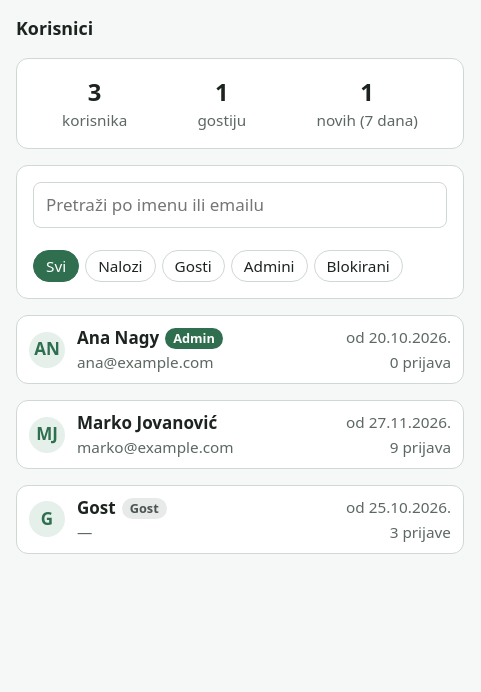
Scenario: Users › deletes a user only after confirming
The width and height of the screenshot is (481, 692).
Click the text "Marko Jovanović" at (147, 424), box top-left (77, 411), bottom-right (217, 436)
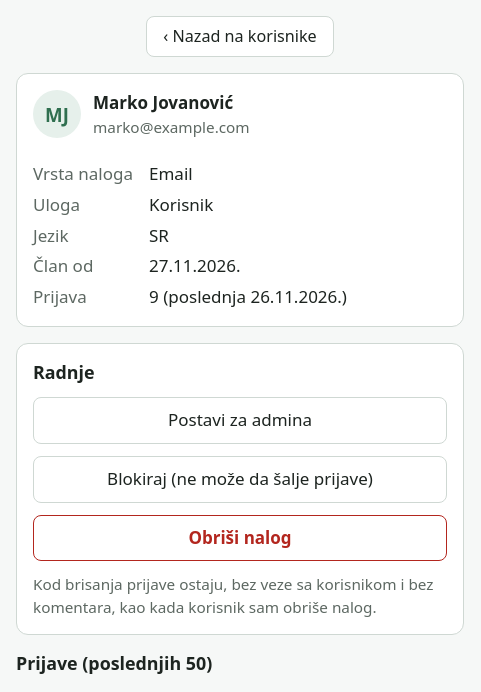
Click the button "Obriši nalog" at (240, 538), box top-left (33, 515), bottom-right (447, 561)
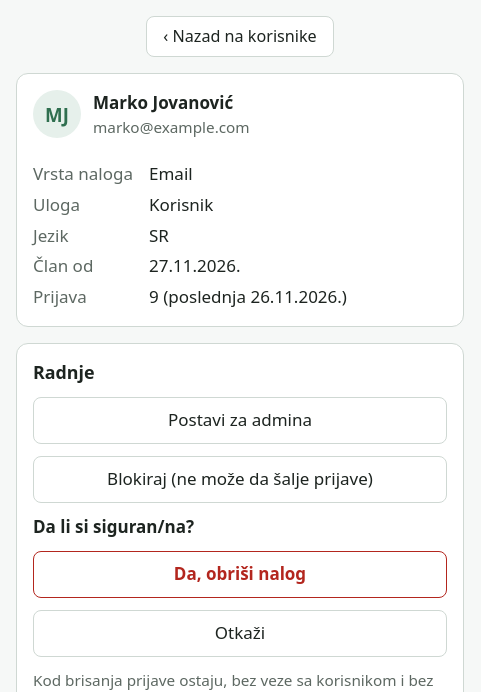
Click the button "Da, obriši nalog" at (240, 575), box top-left (33, 551), bottom-right (447, 598)
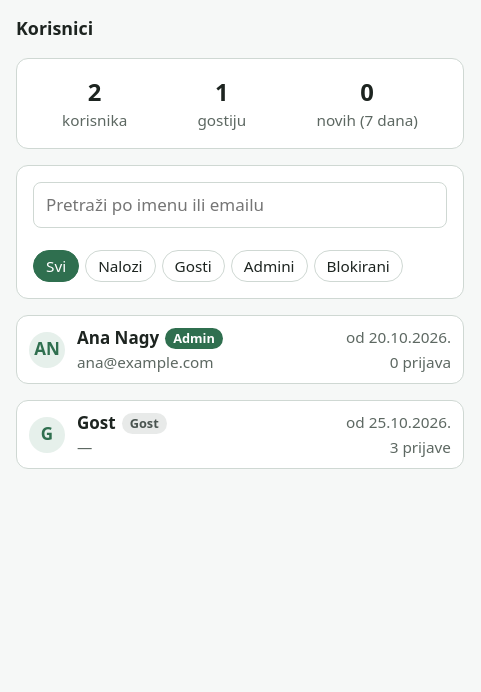
Now the text "Ana Nagy" is shown, box top-left (77, 326), bottom-right (159, 351)
Now the text "Marko Jovanović" is gone
